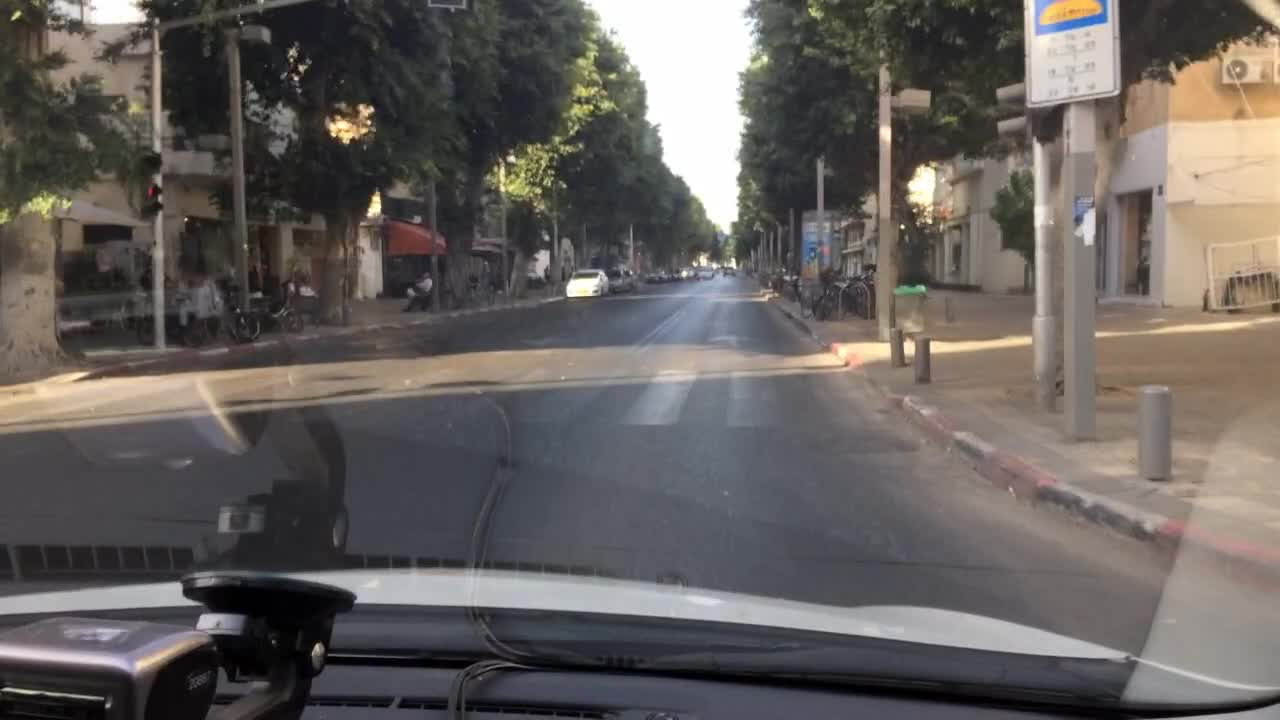bike: (227, 273, 305, 343), (176, 284, 227, 348), (813, 281, 878, 321), (132, 294, 179, 345)
car: (564, 267, 610, 297), (602, 263, 639, 294), (644, 266, 673, 282), (694, 264, 717, 284), (675, 264, 697, 281), (721, 266, 737, 279)
person: (403, 272, 436, 312)
traffic light: (141, 181, 164, 216)
traffic sign: (1023, 0, 1120, 107), (427, 0, 466, 9)
